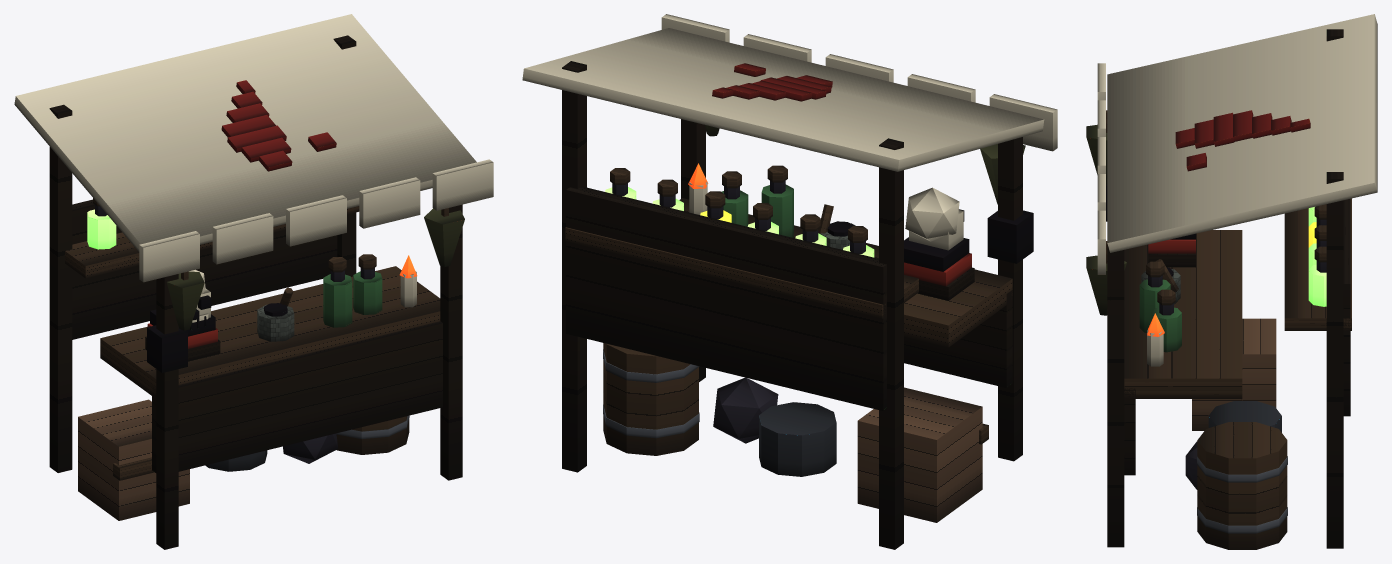
Rendered from market_stall.glb.
3 views of the same model, side by side, from view 1: azimuth 30°, elevation 25°; view 2: azimuth 150°, elevation 25°; view 3: azimuth 270°, elevation 25° (orthographic). The views are drawn at different scales.
Visible parts, largest first — view 1: market_stall; view 2: market_stall; view 3: market_stall.
Part boxes in pixels (x1,y1,x2,y2): market_stall: [14, 14, 493, 549]; market_stall: [522, 14, 1057, 549]; market_stall: [1086, 14, 1377, 549].
Bounding box in the file's own units: 1.48 × 1.47 × 1.04.
Materials: 1 (1 with a texture image).
